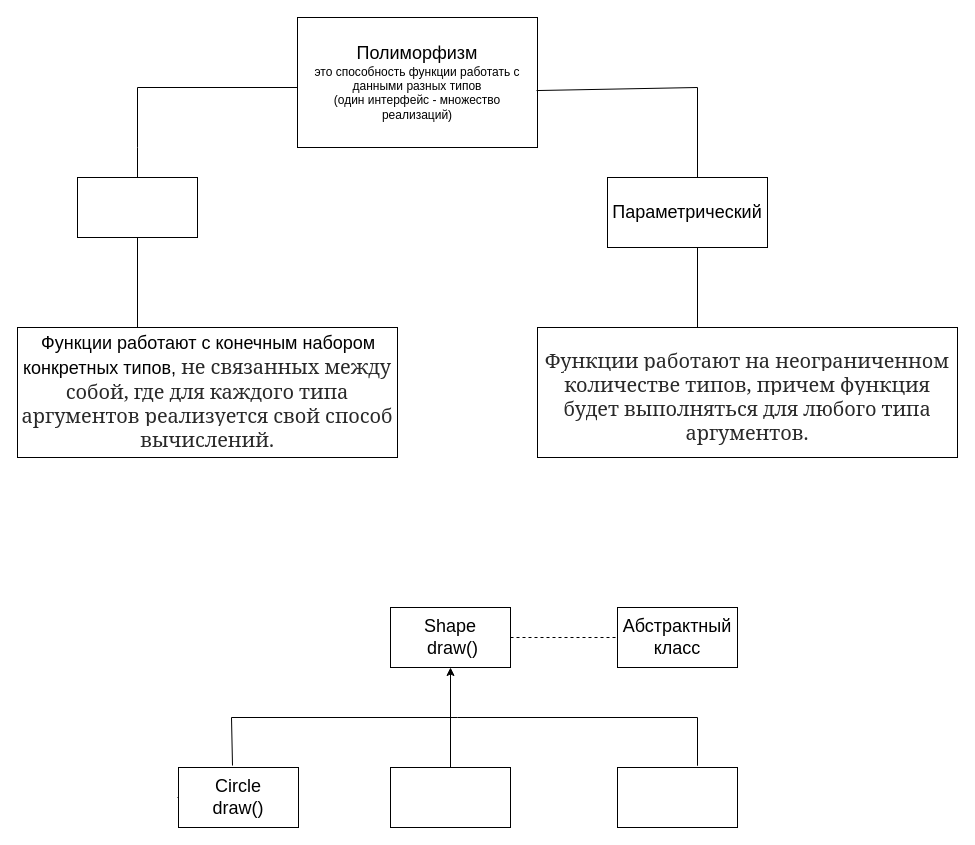
Some shapes in this 975 by 845 pixel diagram are drawn without their labels. Here are the shapes that lost their labels. From the top down, the centre of each, then its label:
the point at 137,207: Ad-hoc
the point at 450,797: Squere draw()
the point at 677,797: Triangle draw()
